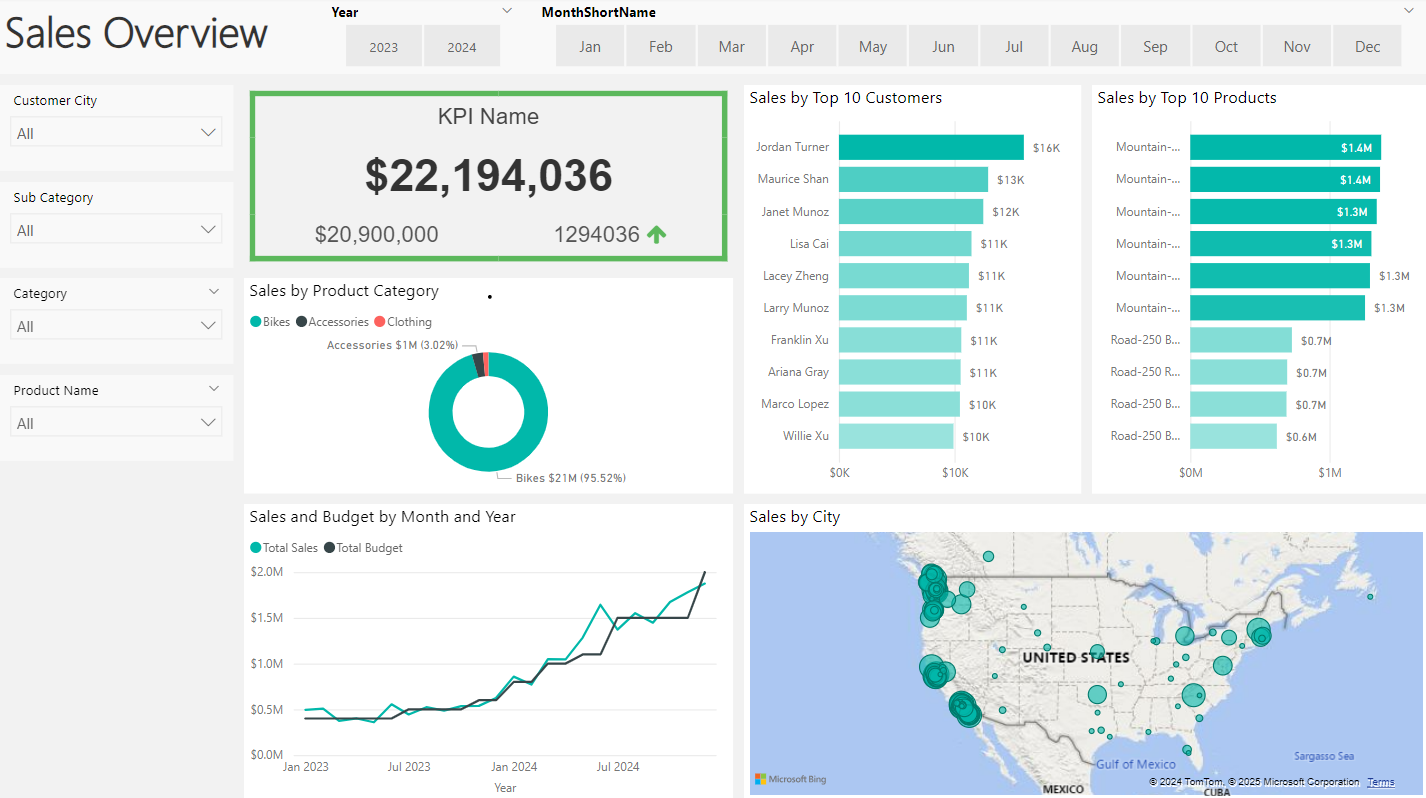

The page's visual inventory and layout, read from the dashboard file:
{"tool":"powerbi","page":{"name":"Sales Overview","canvas":[1280,720],"ordinal":0},"visuals":[{"type":"textbox","box":[0,0,1280,69.1],"z":0},{"type":"slicer","fields":{"Values":["DimCustomer.CustomerCity"]},"box":[0,78.8,210.1,76.8],"z":1000},{"type":"BBED0A4D4D8D44CE93CF2DAFADEE466C","fields":{"actual":["_Measures.Total Sales"],"target1":["_Measures.Total Budget"],"target2":["_Measures.Sales Variance"]},"box":[219.8,78.8,437.7,163.4],"z":2000},{"type":"slicer","fields":{"Values":["DimProduct.SubCategory"]},"box":[0,165.3,210.1,76.8],"z":3000},{"type":"donutChart","title":"Sales by Product Category","fields":{"Y":["_Measures.Total Sales"],"Category":["DimProduct.ProductCategory"]},"box":[219.8,251.9,437.7,192.6],"z":4000},{"type":"lineChart","title":"Sales and Budget by Month and Year","fields":{"Y":["_Measures.Total Sales","_Measures.Total Budget"],"Category":["DimDate.Date.Variation.Date Hierarchy.Year","DimDate.Date.Variation.Date Hierarchy.Month"]},"box":[219.8,454.2,437.7,265.5],"z":5000},{"type":"slicer","fields":{"Values":["DimDate.Date.Variation.Date Hierarchy.Year"]},"box":[285,0,187.7,69.1],"z":6000},{"type":"slicer","fields":{"Values":["DimDate.MonthShortName"]},"box":[472.7,0,807.3,69.1],"z":7000},{"type":"clusteredBarChart","title":"Sales by Top 10 Customers","fields":{"Y":["_Measures.Total Sales"],"Category":["DimCustomer.FullName"]},"box":[667.2,78.8,301.5,365.7],"z":8000},{"type":"slicer","fields":{"Values":["DimProduct.ProductCategory"]},"box":[0,251.9,210.1,76.8],"z":9000},{"type":"slicer","fields":{"Values":["DimProduct.ProductName"]},"box":[0,338.5,210.1,76.8],"z":10000},{"type":"clusteredBarChart","title":"Sales by Top 10 Products","fields":{"Y":["_Measures.Total Sales"],"Category":["DimProduct.ProductName"]},"box":[978.5,78.8,301.5,365.7],"z":11000},{"type":"map","title":"Sales by City","fields":{"Category":["DimCustomer.CustomerCity"],"Size":["_Measures.Total Sales"]},"box":[667.2,454.2,612.8,265.5],"z":12000}]}

Visuals, with their boxes in screenshot pixels (x1, y1, x2, y2), scaled from the page's 1280x720 canvas onto the 1426x798 screenshot:
textbox: bbox(0, 0, 1425, 77)
slicer - DimCustomer.CustomerCity: bbox(0, 87, 234, 172)
BBED0A4D4D8D44CE93CF2DAFADEE466C - _Measures.Total Sales x _Measures.Total Budget: bbox(245, 87, 732, 268)
slicer - DimProduct.SubCategory: bbox(0, 183, 234, 268)
"Sales by Product Category" donutChart: bbox(245, 279, 732, 493)
"Sales and Budget by Month and Year" lineChart: bbox(245, 503, 732, 797)
slicer - DimDate.Date.Variation.Date Hierarchy.Year: bbox(318, 0, 527, 77)
slicer - DimDate.MonthShortName: bbox(527, 0, 1425, 77)
"Sales by Top 10 Customers" clusteredBarChart: bbox(743, 87, 1079, 493)
slicer - DimProduct.ProductCategory: bbox(0, 279, 234, 364)
slicer - DimProduct.ProductName: bbox(0, 375, 234, 460)
"Sales by Top 10 Products" clusteredBarChart: bbox(1090, 87, 1425, 493)
"Sales by City" map: bbox(743, 503, 1425, 797)
